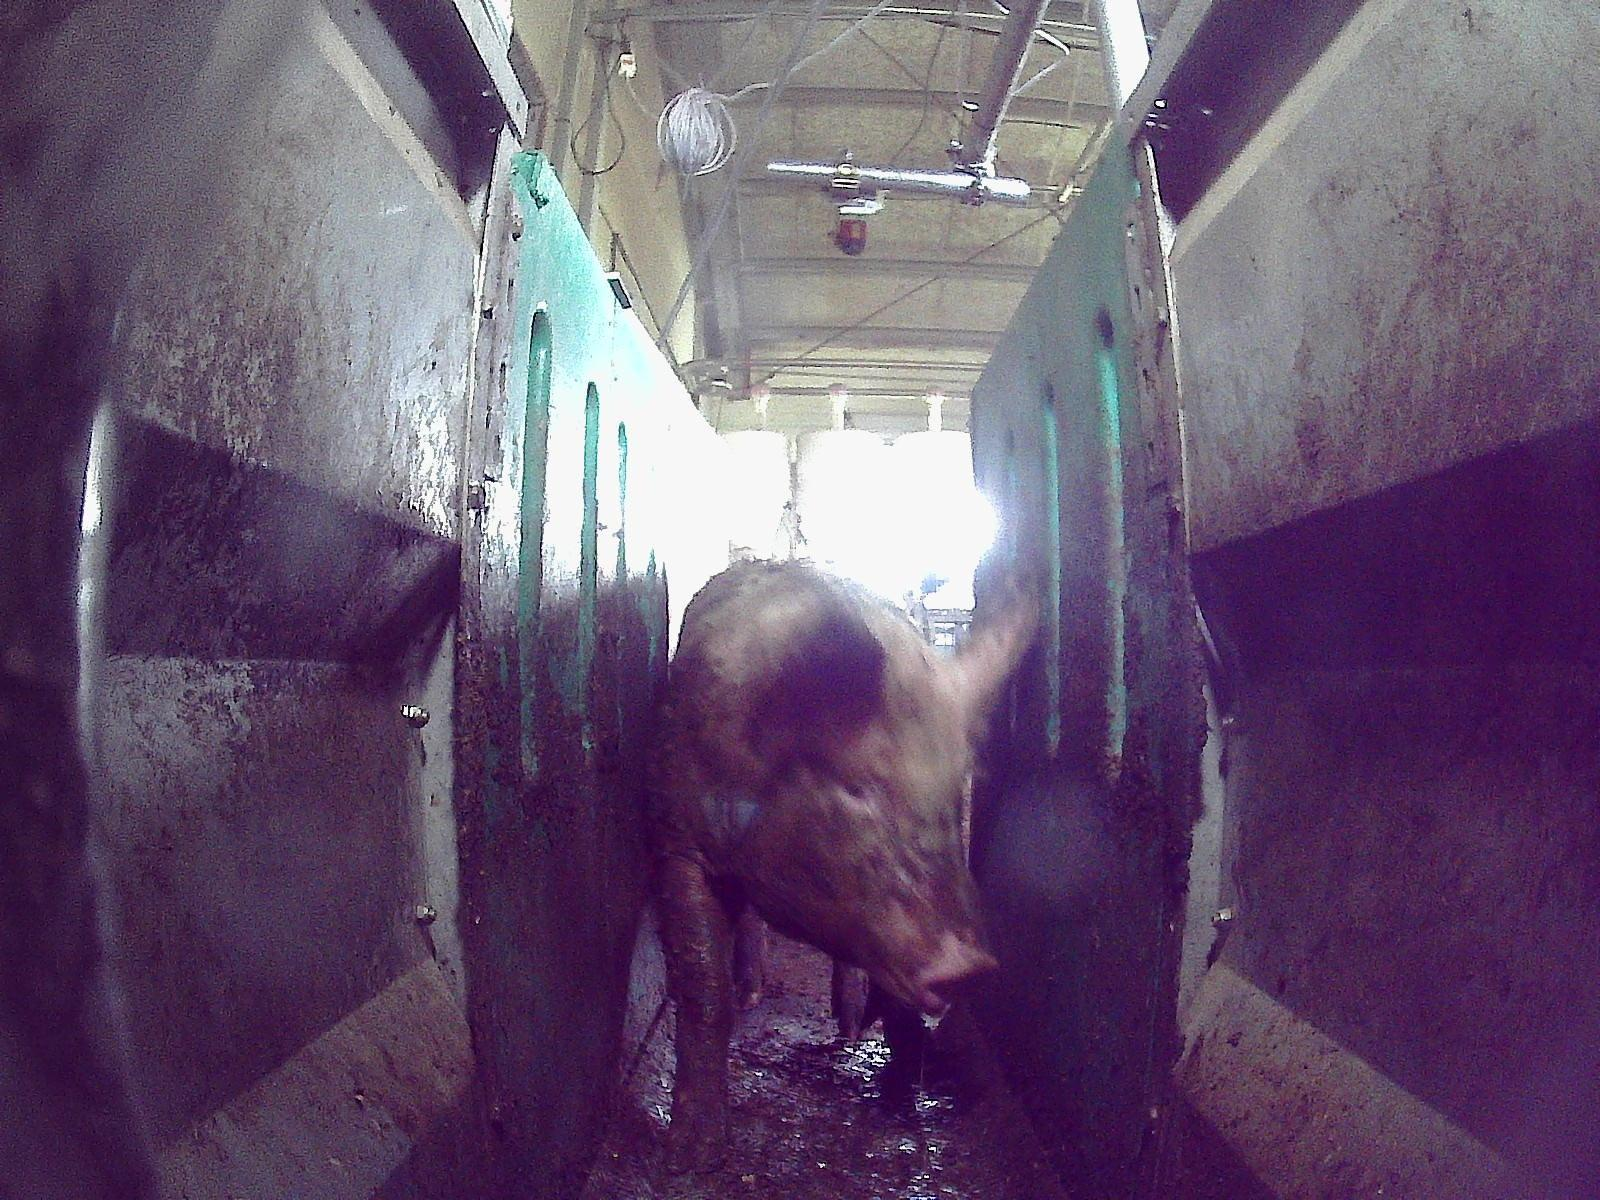Face: (759, 667, 1000, 1013)
